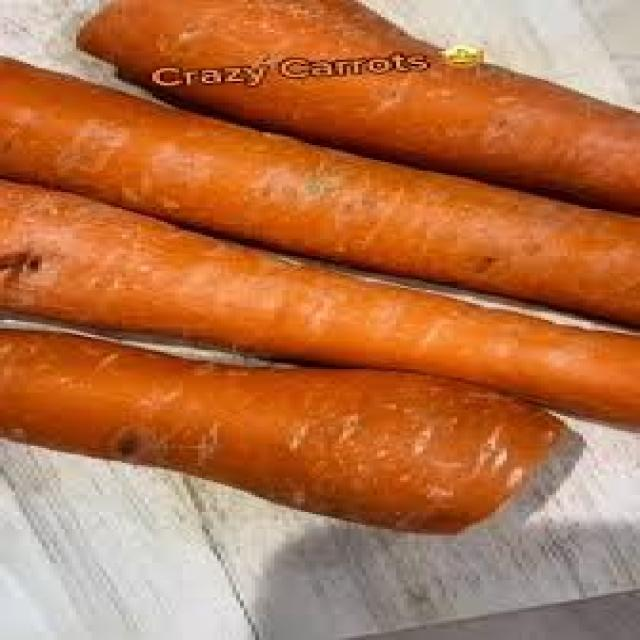Stale_Carrot: (80, 1, 636, 212)
